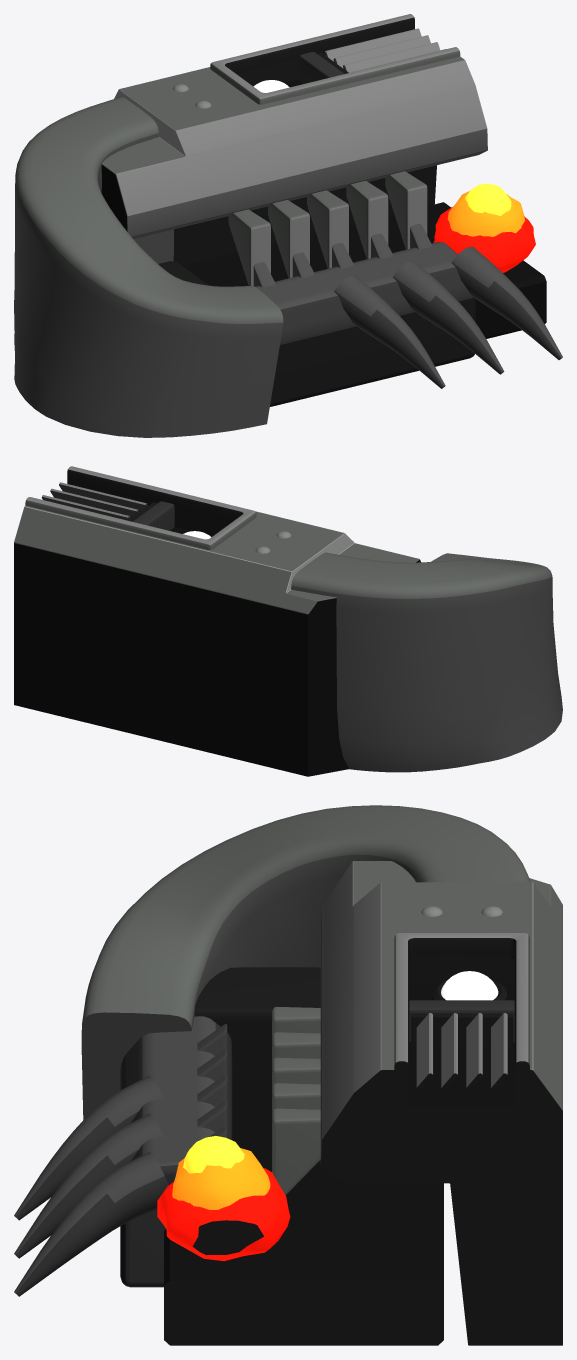
Rendered from jaw_gun_a_left_233.glb.
3 views of the same model, one above another, from view 1: azimuth 30°, elevation 25°; view 2: azimuth 150°, elevation 25°; view 3: azimuth 270°, elevation 25° (orthographic). The views are drawn at different scales.
Visible parts, largest first — view 1: hinge.001, upper_jaw.001, lower_jaw.001, bezel.001, mouth_floor.001, fang2.001, fang1.001, fang0.001, fireball0.001, upper_tooth3.001, upper_tooth4.001, upper_tooth0.001 (+8 smaller); view 2: upper_jaw.001, hinge.001, bezel.001, divider.001, slat0.001, slat1.001, slat2.001; view 3: upper_jaw.001, hinge.001, mouth_floor.001, lower_jaw.001, cheek.001, bezel.001, fang2.001, fireball0.001, fang0.001, fang1.001, fireball1.001, upper_tooth4.001 (+12 smaller).
Part boxes in pixels (x1,y1,x2,y2): hinge.001: (14,97,283,437); upper_jaw.001: (101,23,487,265); lower_jaw.001: (255,242,475,406); bezel.001: (210,14,460,104); mouth_floor.001: (183,202,546,338); fang2.001: (451,246,562,359); fang1.001: (392,261,504,374); fang0.001: (334,275,445,388); fireball0.001: (433,207,535,272); upper_tooth3.001: (346,181,388,258); upper_tooth4.001: (385,171,427,249); upper_tooth0.001: (228,209,270,285); upper_jaw.001: (14,475,420,776); hinge.001: (291,552,562,772); bezel.001: (25,466,256,550); divider.001: (133,501,174,530); slat0.001: (59,482,147,511); slat1.001: (50,488,139,517); slat2.001: (41,495,130,520); upper_jaw.001: (320,861,562,1345); hinge.001: (81,805,530,1119); mouth_floor.001: (164,1079,443,1345); lower_jaw.001: (120,1016,232,1287); cheek.001: (194,967,320,1079); bezel.001: (394,933,529,1083); fang2.001: (14,1152,168,1296); fireball0.001: (157,1168,290,1261); fang0.001: (14,1075,164,1220); fang1.001: (14,1113,164,1258); fireball1.001: (172,1148,270,1209); upper_tooth4.001: (272,1108,320,1194).
Bounding box in the file's own units: 23.94 × 10.42 × 18.24.
